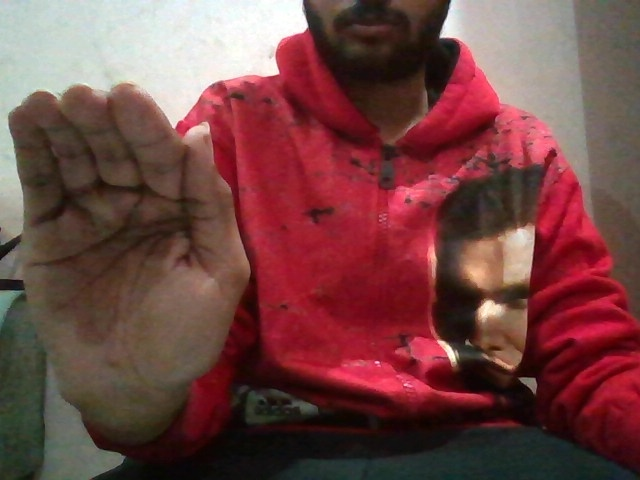C: (1, 75, 262, 443)
